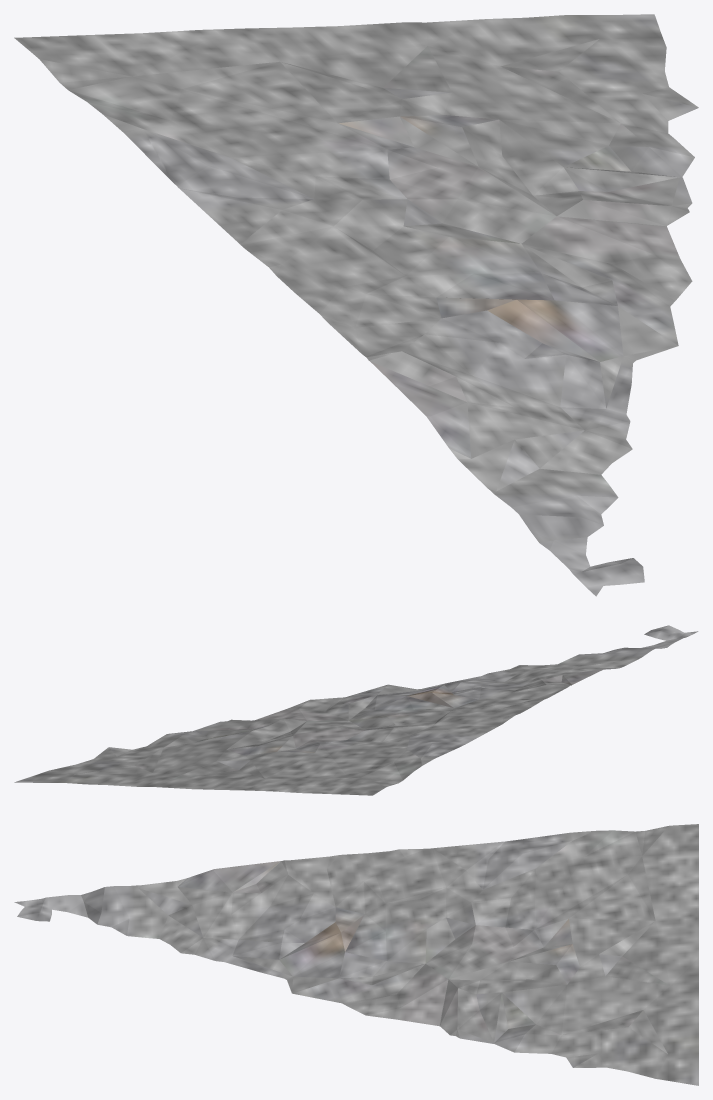
3 views of the same model, one above another, from view 1: azimuth 30°, elevation 25°; view 2: azimuth 150°, elevation 25°; view 3: azimuth 270°, elevation 25° (orthographic). The views are drawn at different scales.
Size of the model in its own units: 0.4984 by 0.0987 by 0.7848.
1 material, 1 textured.
